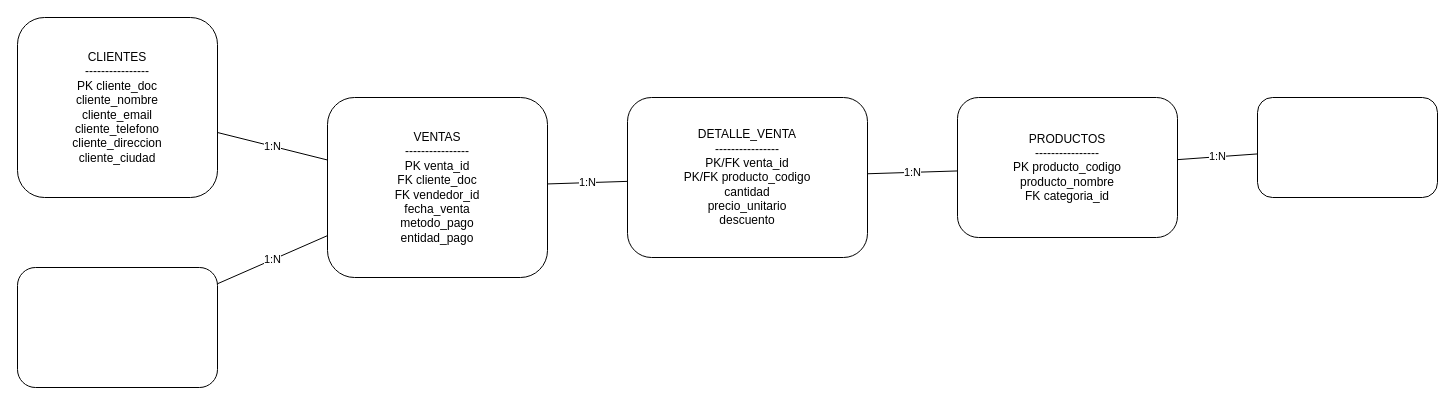
This 1455x405 diagram has some shape labels left out. The centre of each missing label's shape, as x and y in pixels:
"CATEGORIAS ---------------- PK categoria_id nombre" belongs at (1347,147).
"VENDEDORES ---------------- PK vendedor_id vendedor_nombre vendedor_zona" belongs at (117,327).
